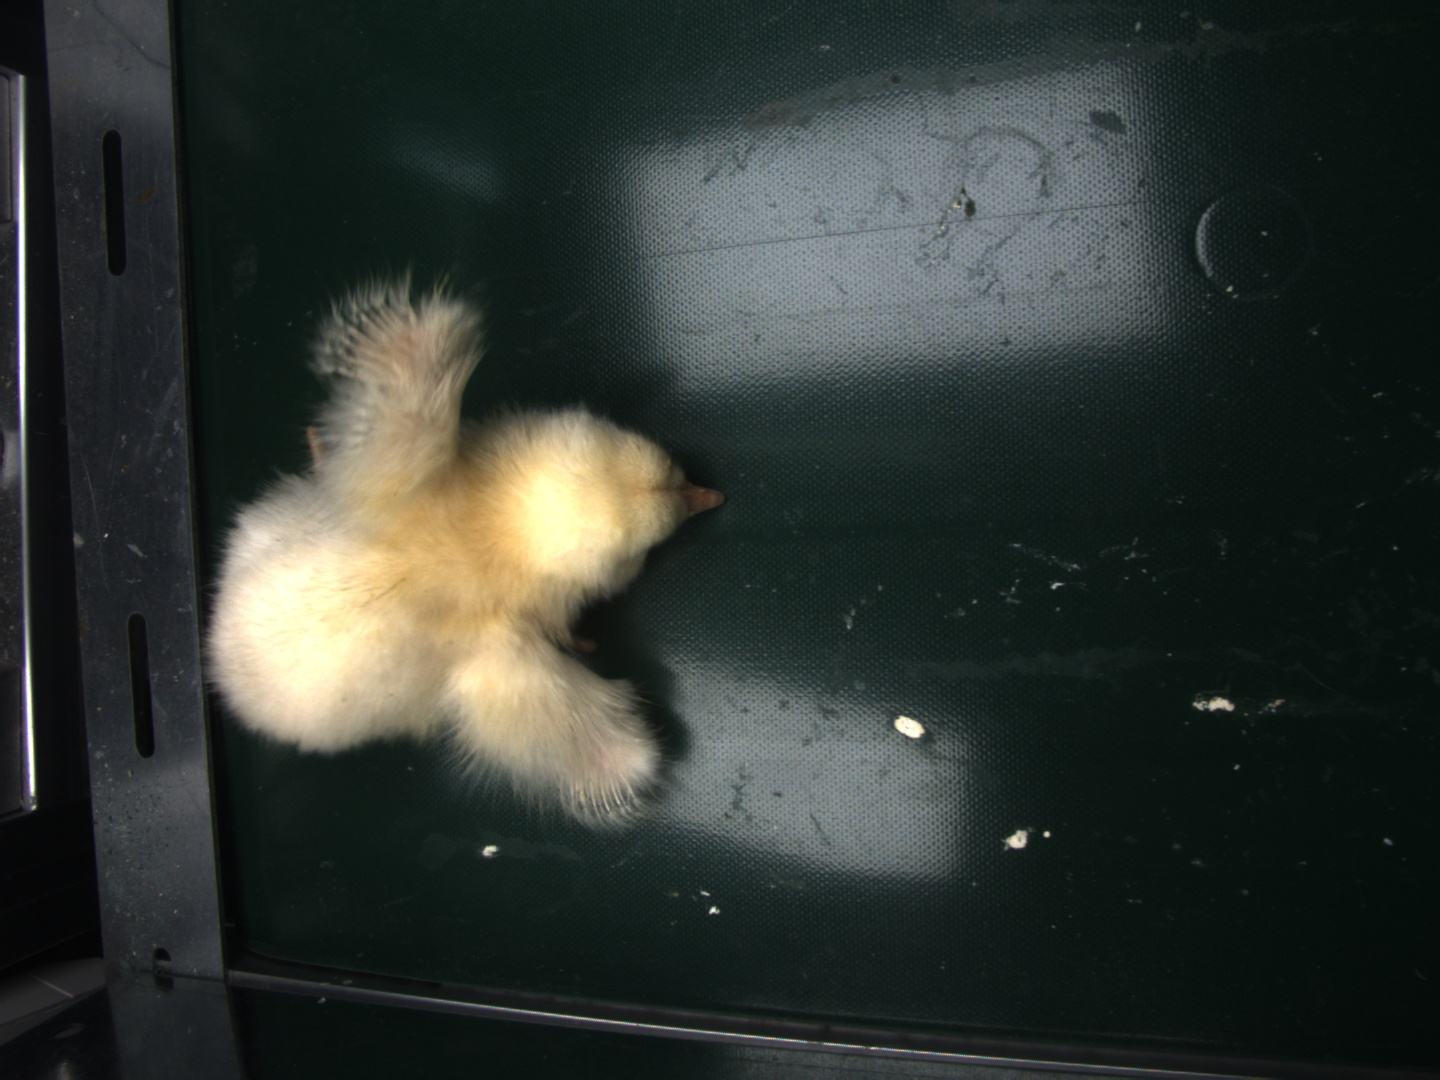male: (566, 777, 636, 817)
